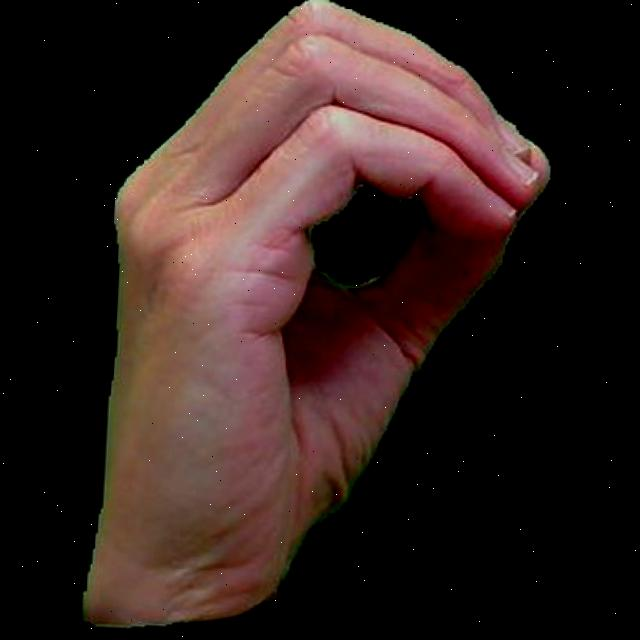o: (57, 0, 563, 640)
